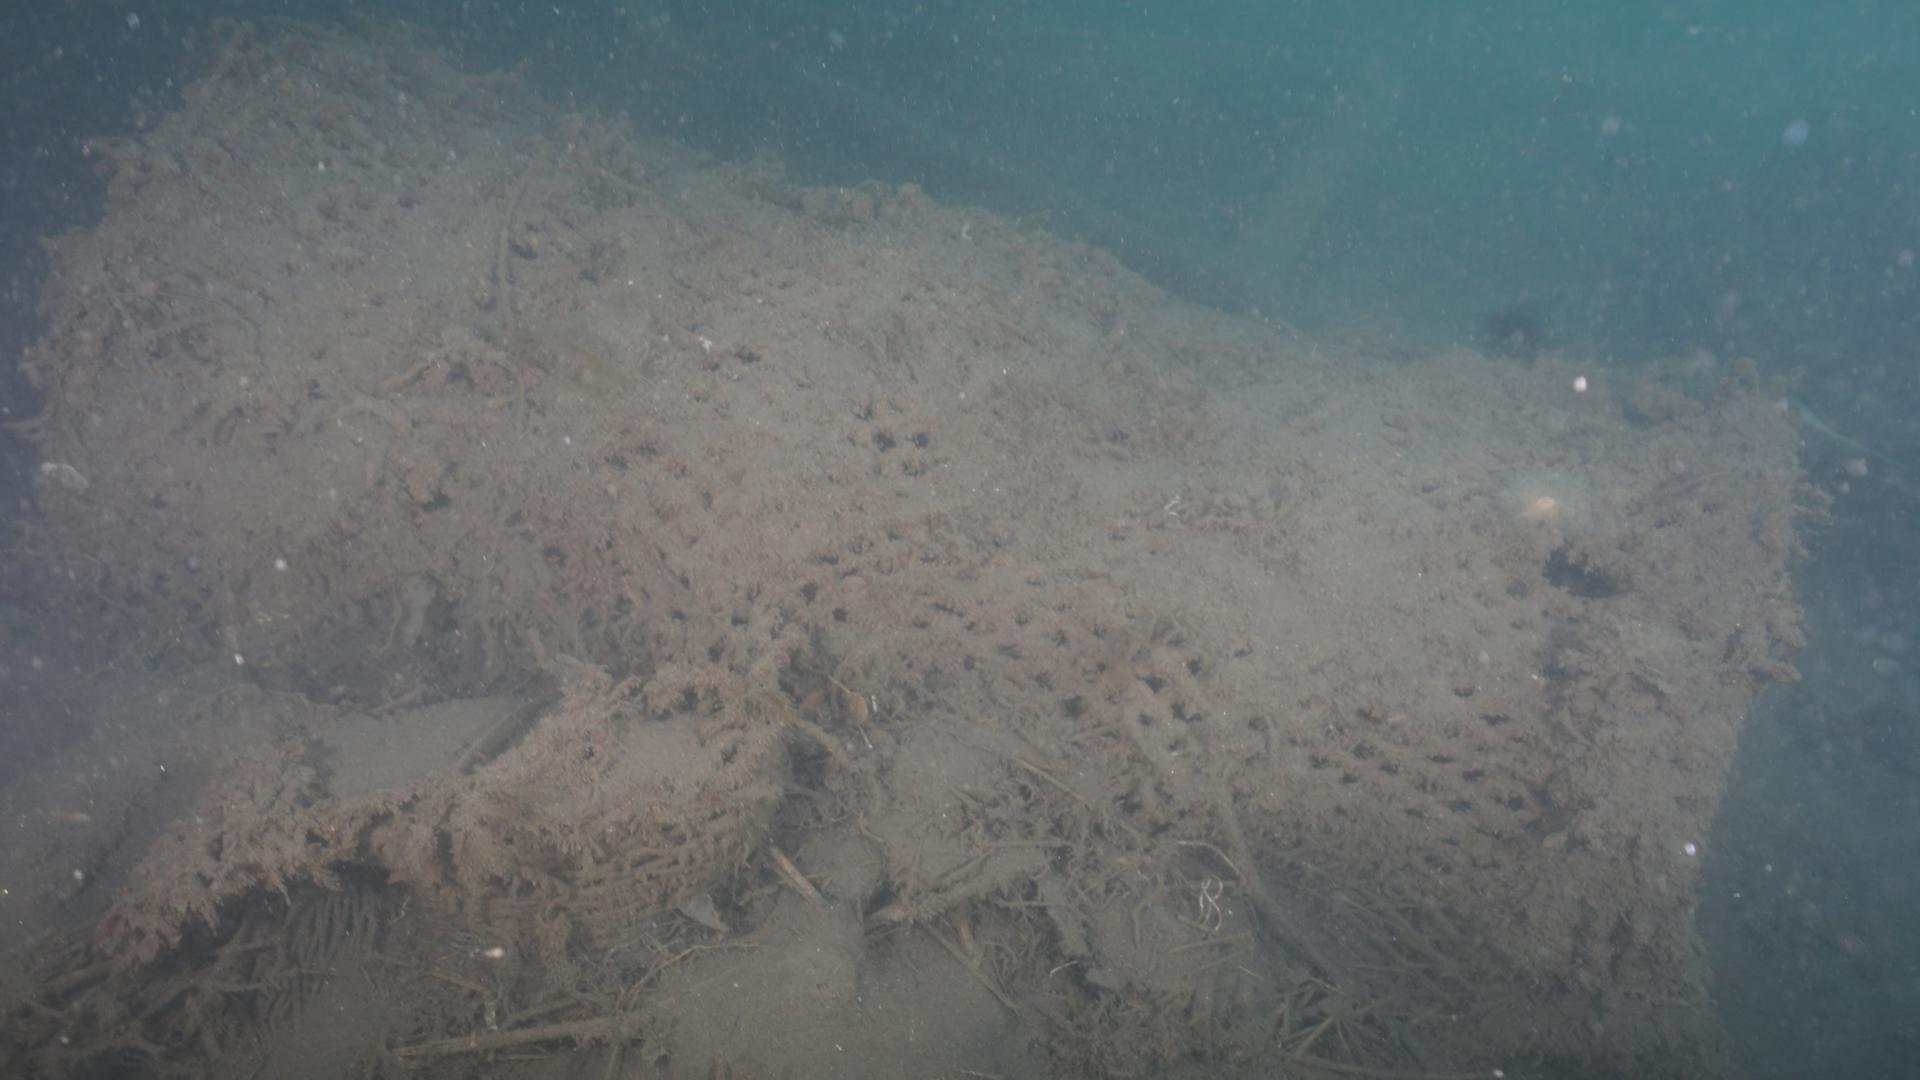spring fish trap: (0, 0, 1803, 996)
